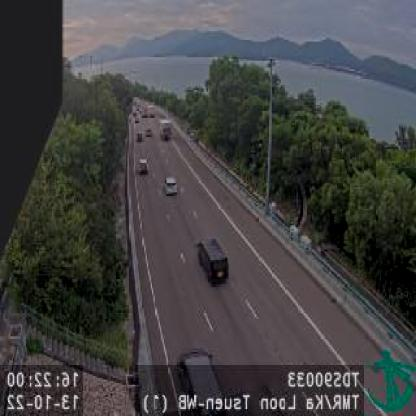Car: (175, 347, 233, 409), (196, 236, 229, 283), (163, 174, 177, 195), (160, 118, 173, 140), (136, 157, 148, 177)
